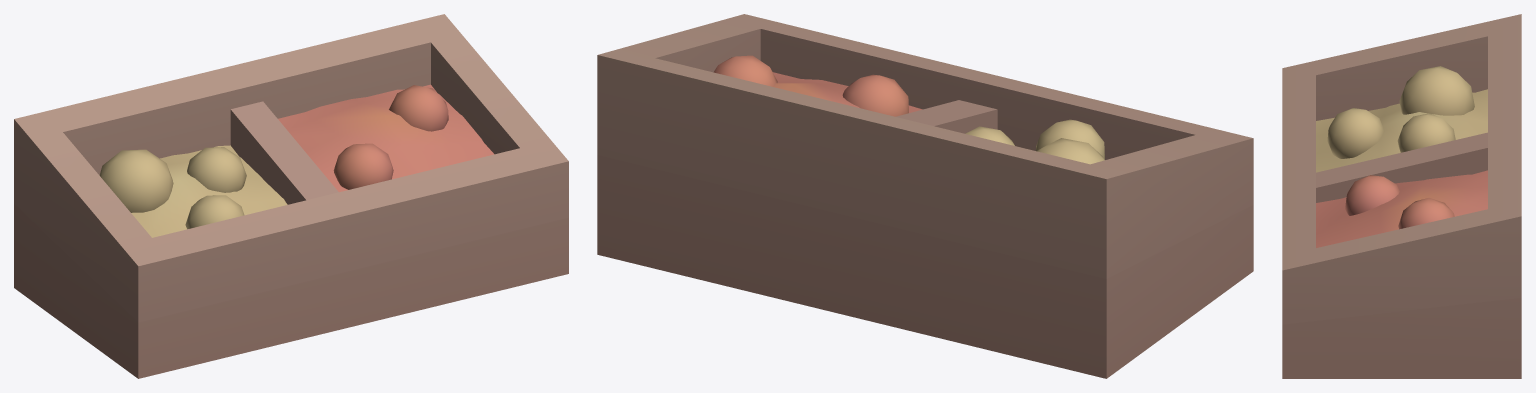
The model's file is crate_long.gltf.
The picture shows the model from 3 angles, left to right: view 1: azimuth 30°, elevation 25°; view 2: azimuth 150°, elevation 25°; view 3: azimuth 270°, elevation 25°; orthographic projection. The views are drawn at different scales.
Visible parts, largest first — view 1: crate_long; view 2: crate_long; view 3: crate_long.
Boxes of the visible parts, x1,y1,x2,y2 form: crate_long: (14, 14, 568, 378); crate_long: (597, 14, 1253, 378); crate_long: (1282, 14, 1521, 378).
Size of the model in its own units: 0.4 by 0.15 by 0.2.
